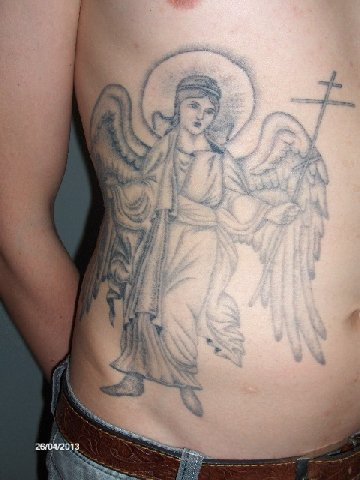tatu1_angel: (83, 36, 338, 419)
tatu9_krest: (288, 64, 355, 158)
